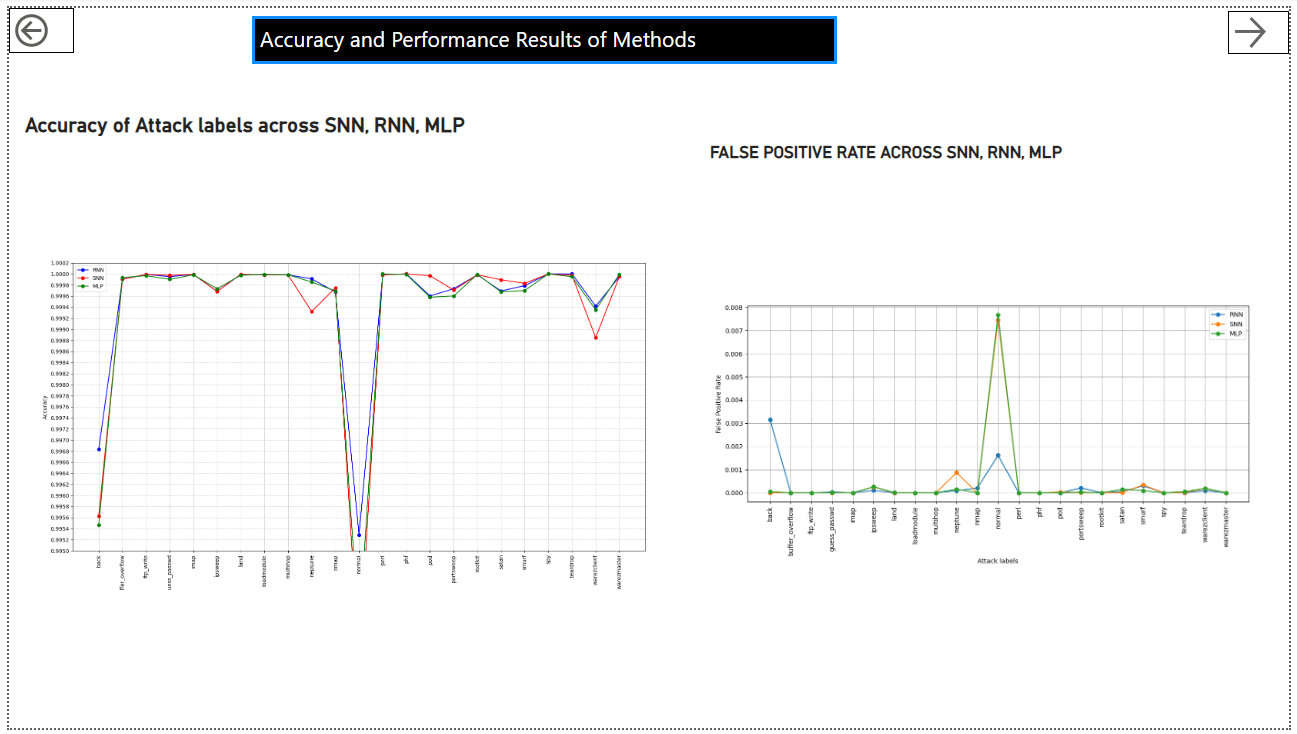

The page's visual inventory and layout, read from the dashboard file:
{"tool":"powerbi","page":{"name":"Perfomance ","canvas":[1280,720],"ordinal":4},"visuals":[{"type":"image","title":"FALSE POSITIVE RATE ACROSS SNN, RNN, MLP","box":[696,134,553,564],"z":0},{"type":"image","title":"Accuracy of Attack labels across SNN, RNN, MLP","box":[11,105,640,593],"z":1000},{"type":"textbox","box":[243,8,585,48],"z":2000},{"type":"actionButton","box":[0,0,64.5,45.4],"z":3000},{"type":"actionButton","box":[1219.1,3.4,60.7,42.2],"z":4000}]}

Visuals, with their boxes in screenshot pixels (x1, y1, x2, y2), scaled from the page's 1280x720 canvas onto the 1297x734 screenshot:
"FALSE POSITIVE RATE ACROSS SNN, RNN, MLP" image: 705, 137, 1266, 712
"Accuracy of Attack labels across SNN, RNN, MLP" image: 11, 107, 660, 712
textbox: 246, 8, 839, 57
actionButton: 0, 0, 65, 46
actionButton: 1235, 3, 1296, 46
